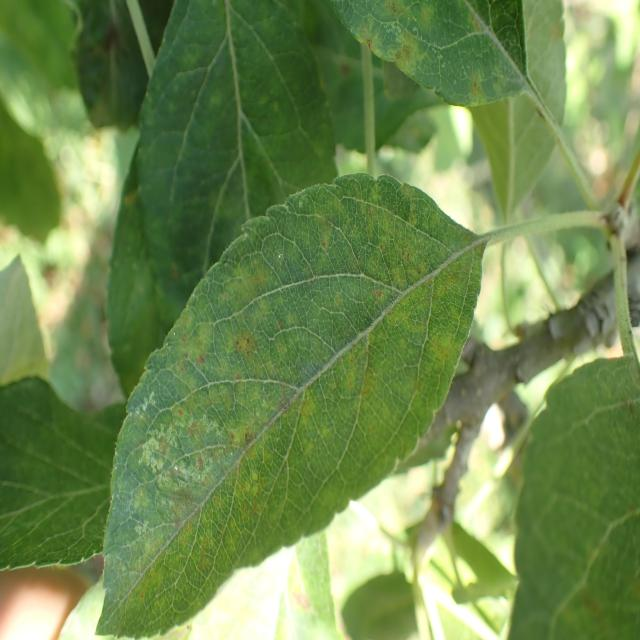scab: (106, 173, 464, 532), (336, 3, 521, 105)
